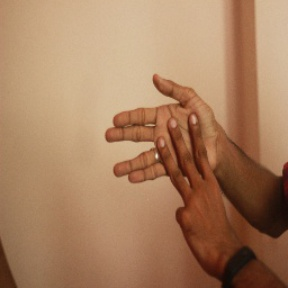M: (106, 71, 222, 196)
